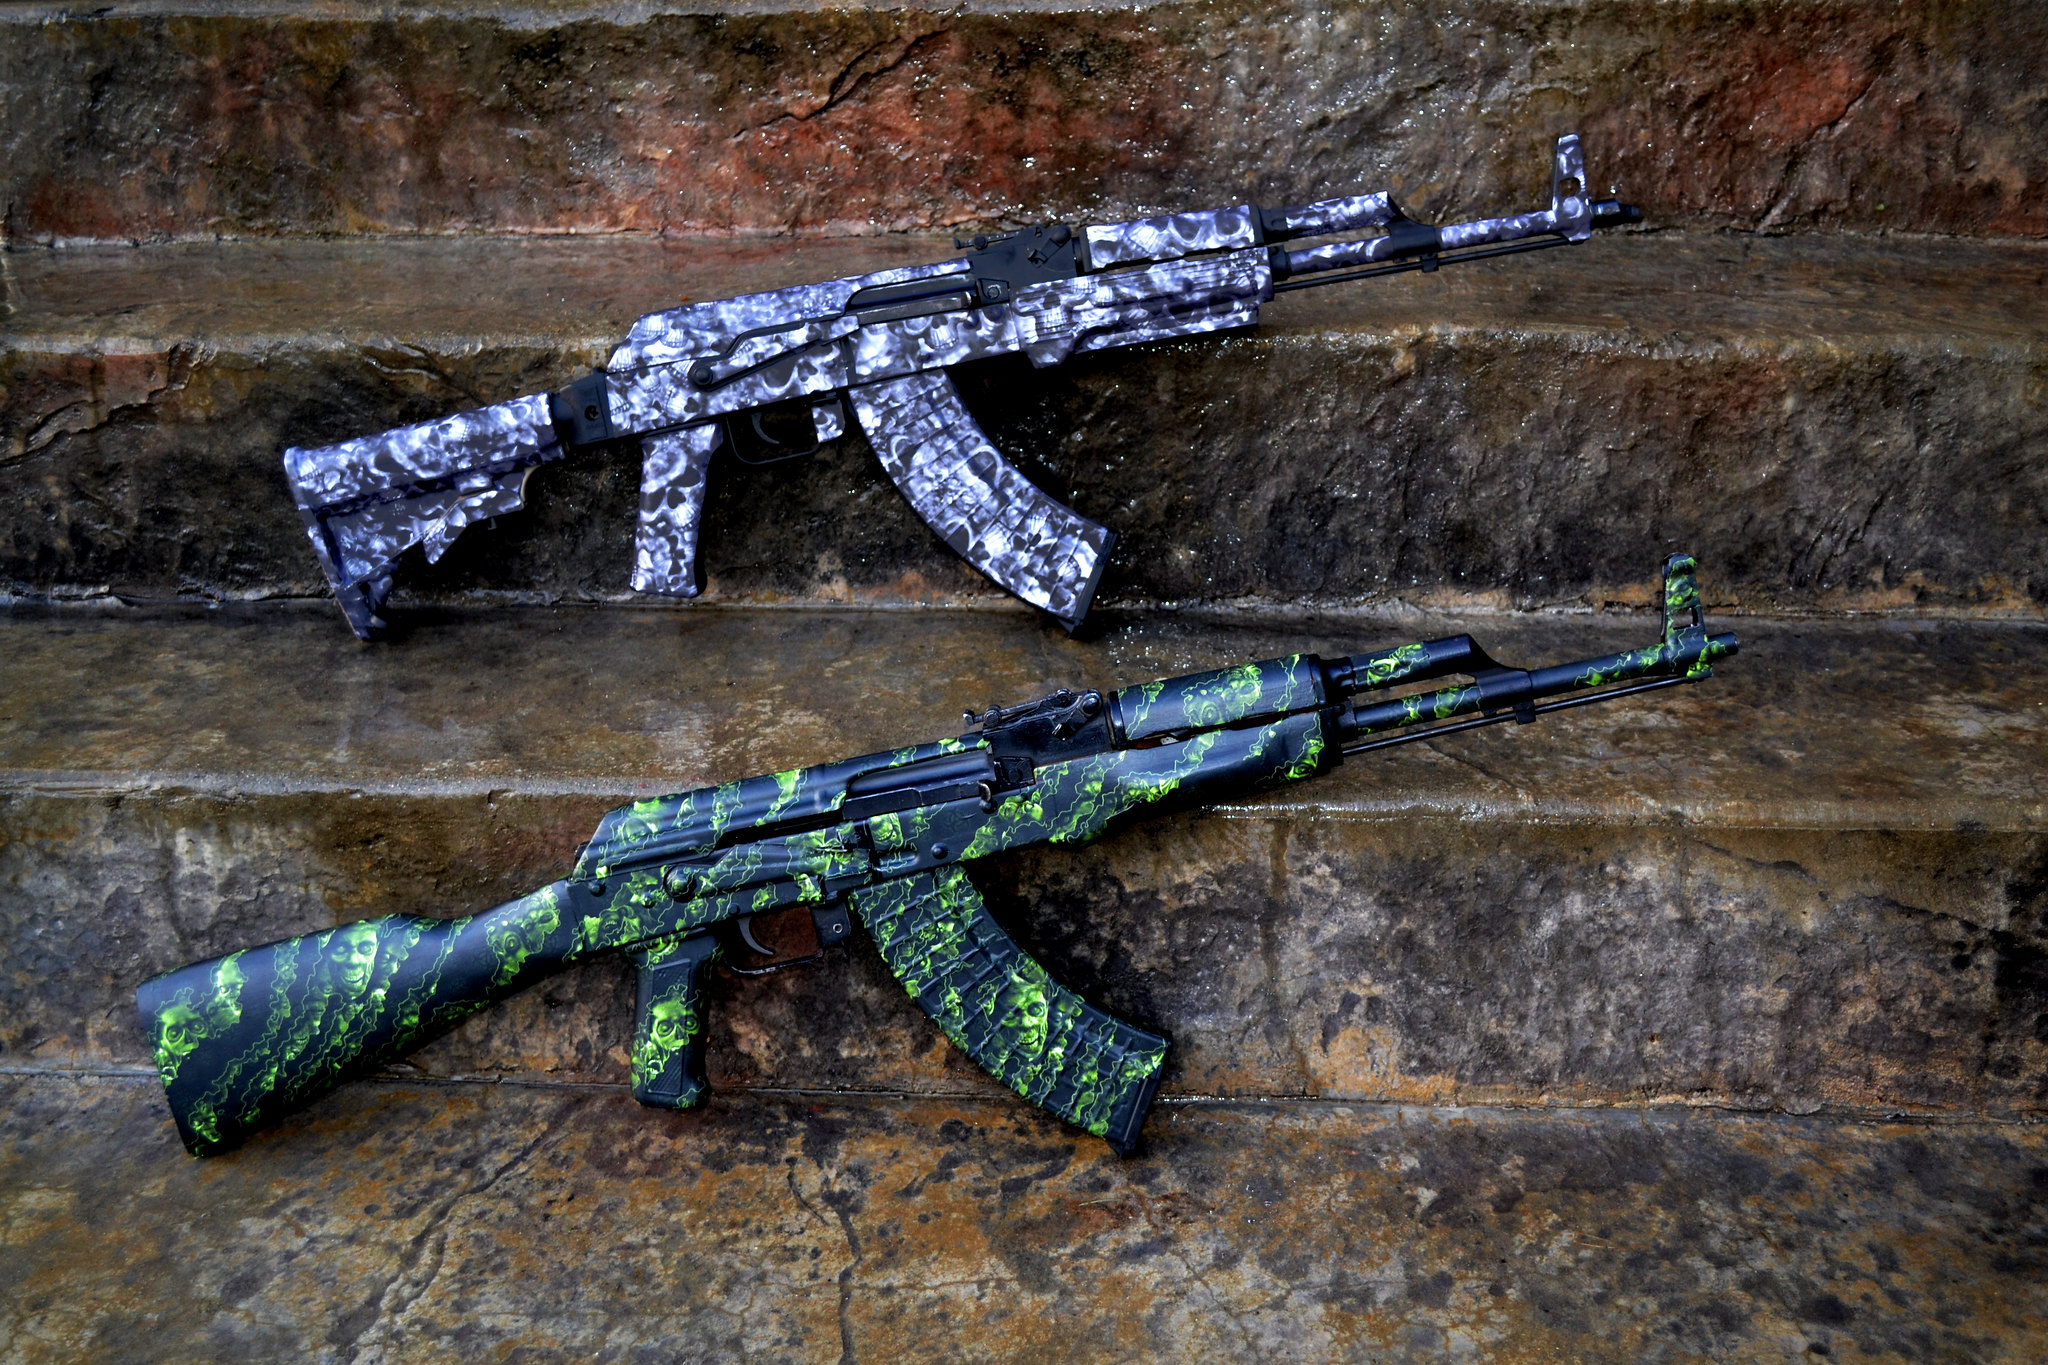gun: (129, 542, 1751, 1165), (270, 129, 1632, 658)
